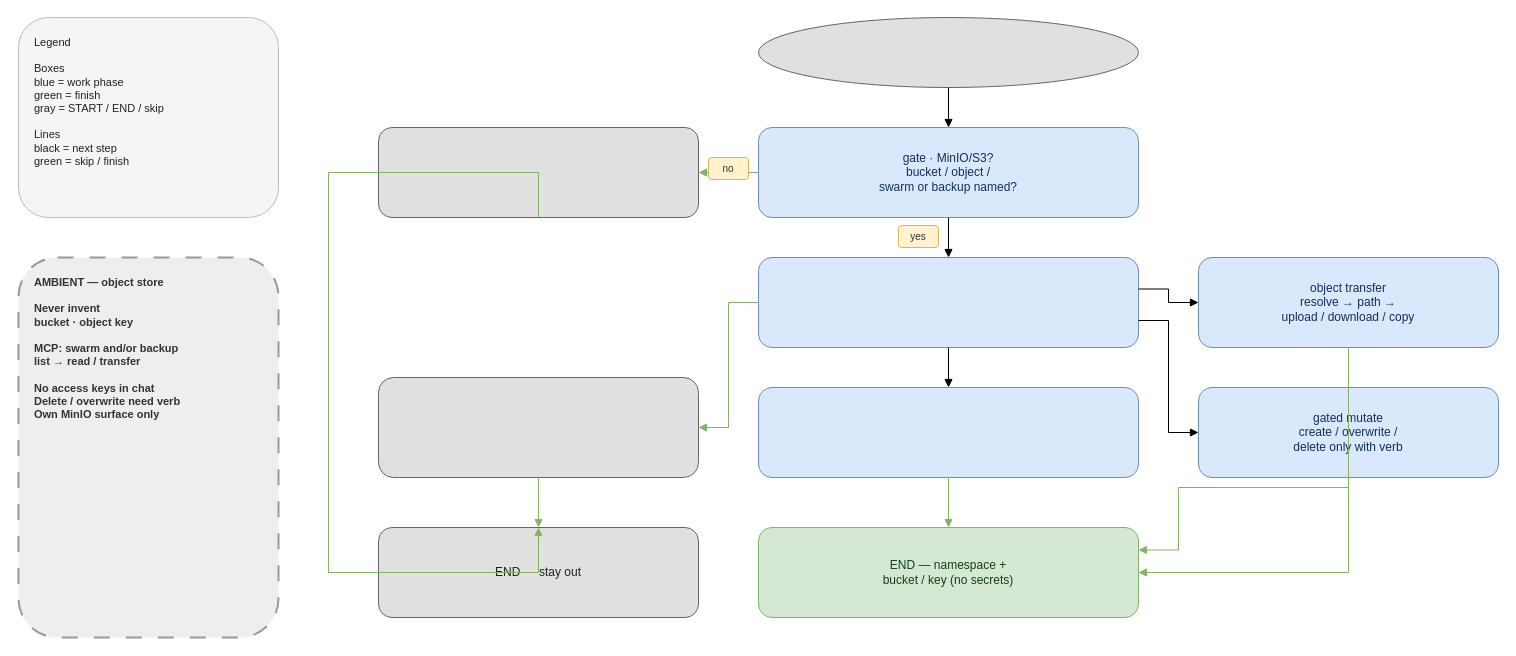
Image size: 1516x656. Some labels were removed from this diagram. Here are the shapes that lost their labels. From the top down, the centre of each, then its label:
At (x=948, y=52): "START — user ask".
At (x=538, y=172): "skip — no MinIO surface this turn".
At (x=948, y=302): "route · pick MCP inventory vs transfer vs gated mutate".
At (x=538, y=427): "refuse secrets gate delete/overwrite (minio-safety)".
At (x=948, y=432): "bucket audit list → usage → tags / versioning".
